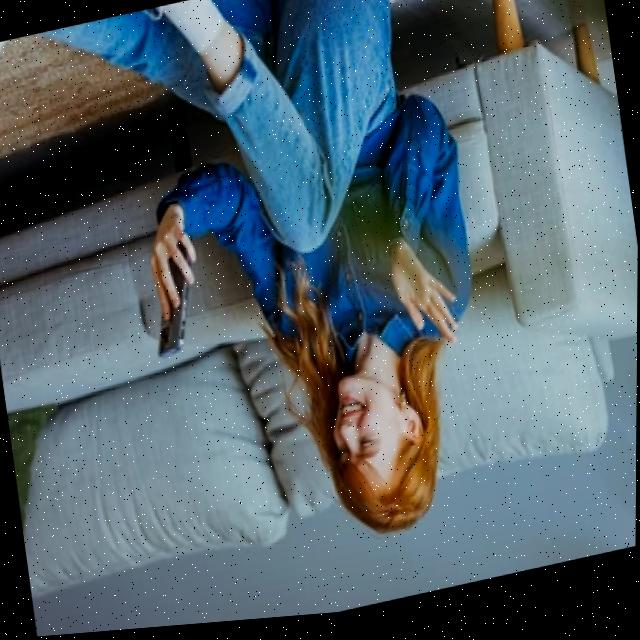smartphone-person: (95, 0, 514, 605)
